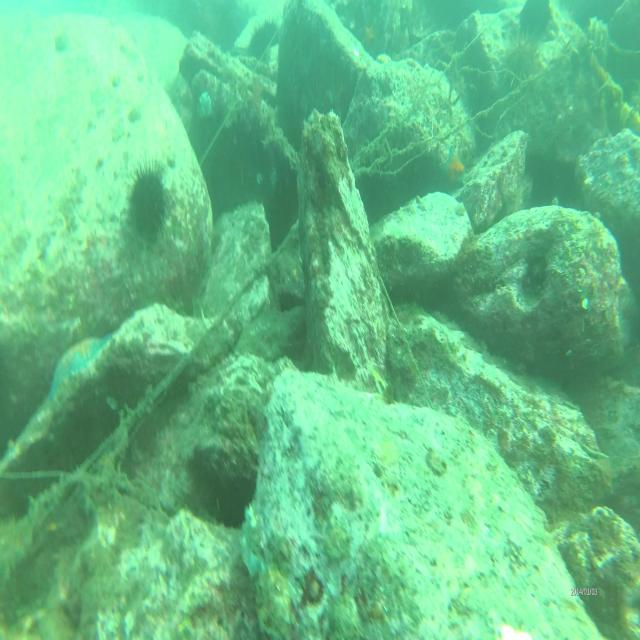echinus: (126, 166, 168, 241), (502, 31, 540, 88), (250, 19, 278, 64)
starfish: (46, 335, 114, 412), (440, 144, 468, 195), (360, 20, 379, 51)
